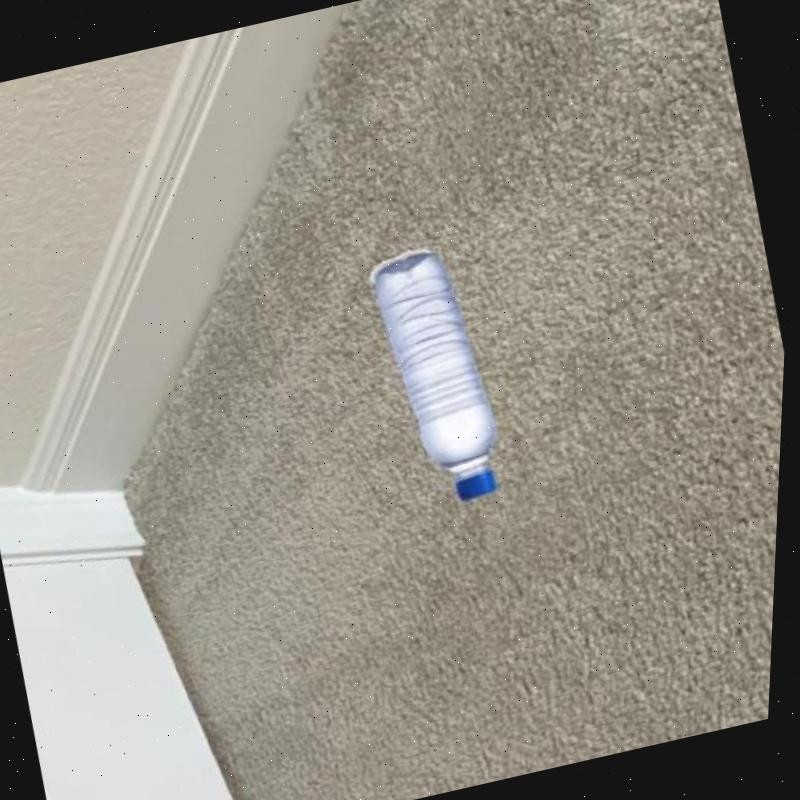botella: (363, 242, 521, 512)
